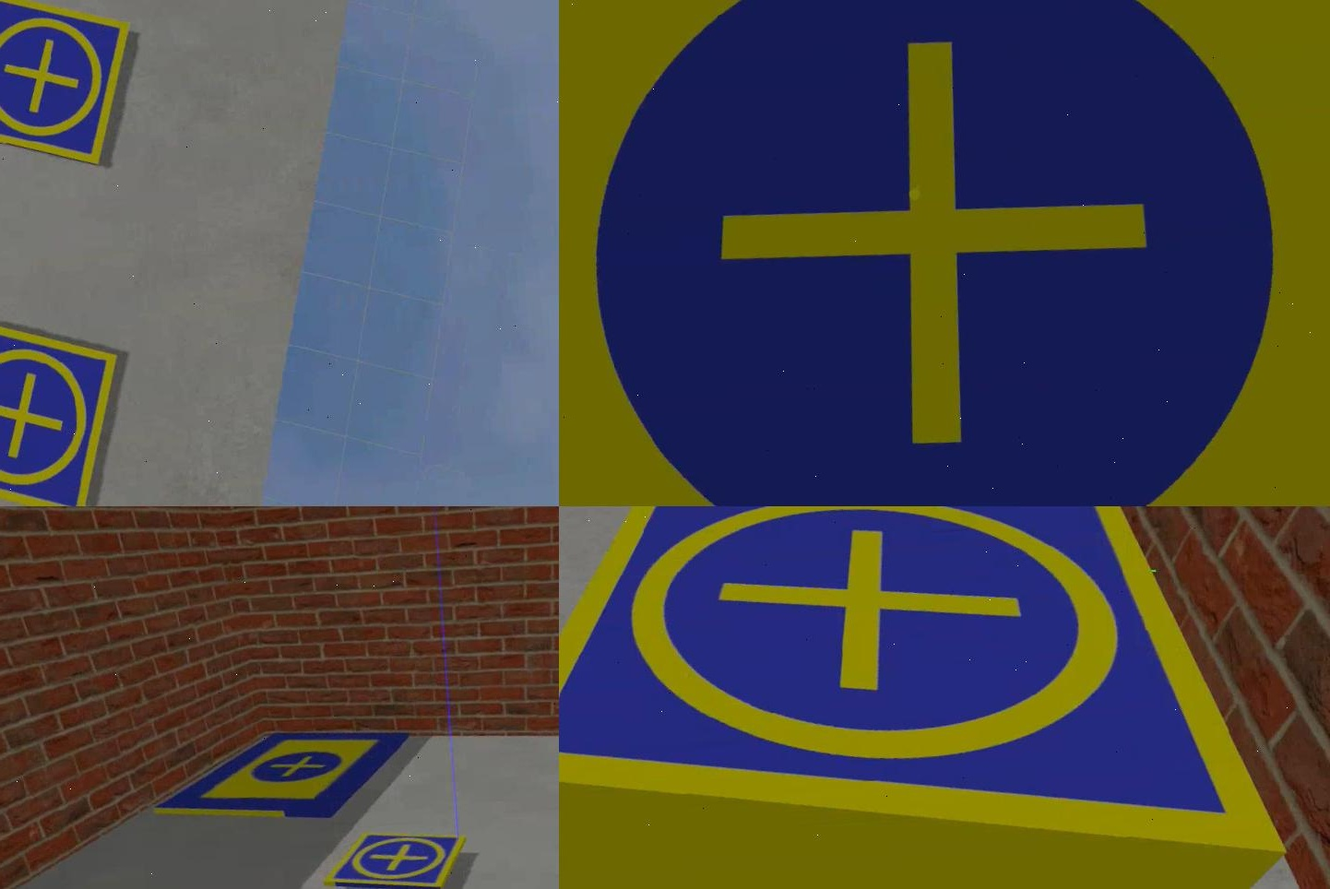large_base: (558, 1, 1328, 506), (145, 720, 420, 828)
small_base: (558, 506, 1287, 889), (0, 310, 133, 506), (0, 1, 139, 174), (314, 830, 468, 889)
